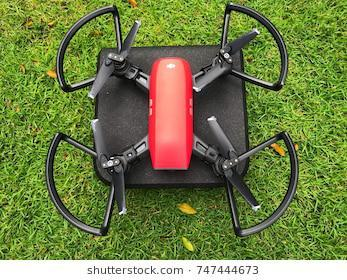drone: (42, 7, 302, 237)
